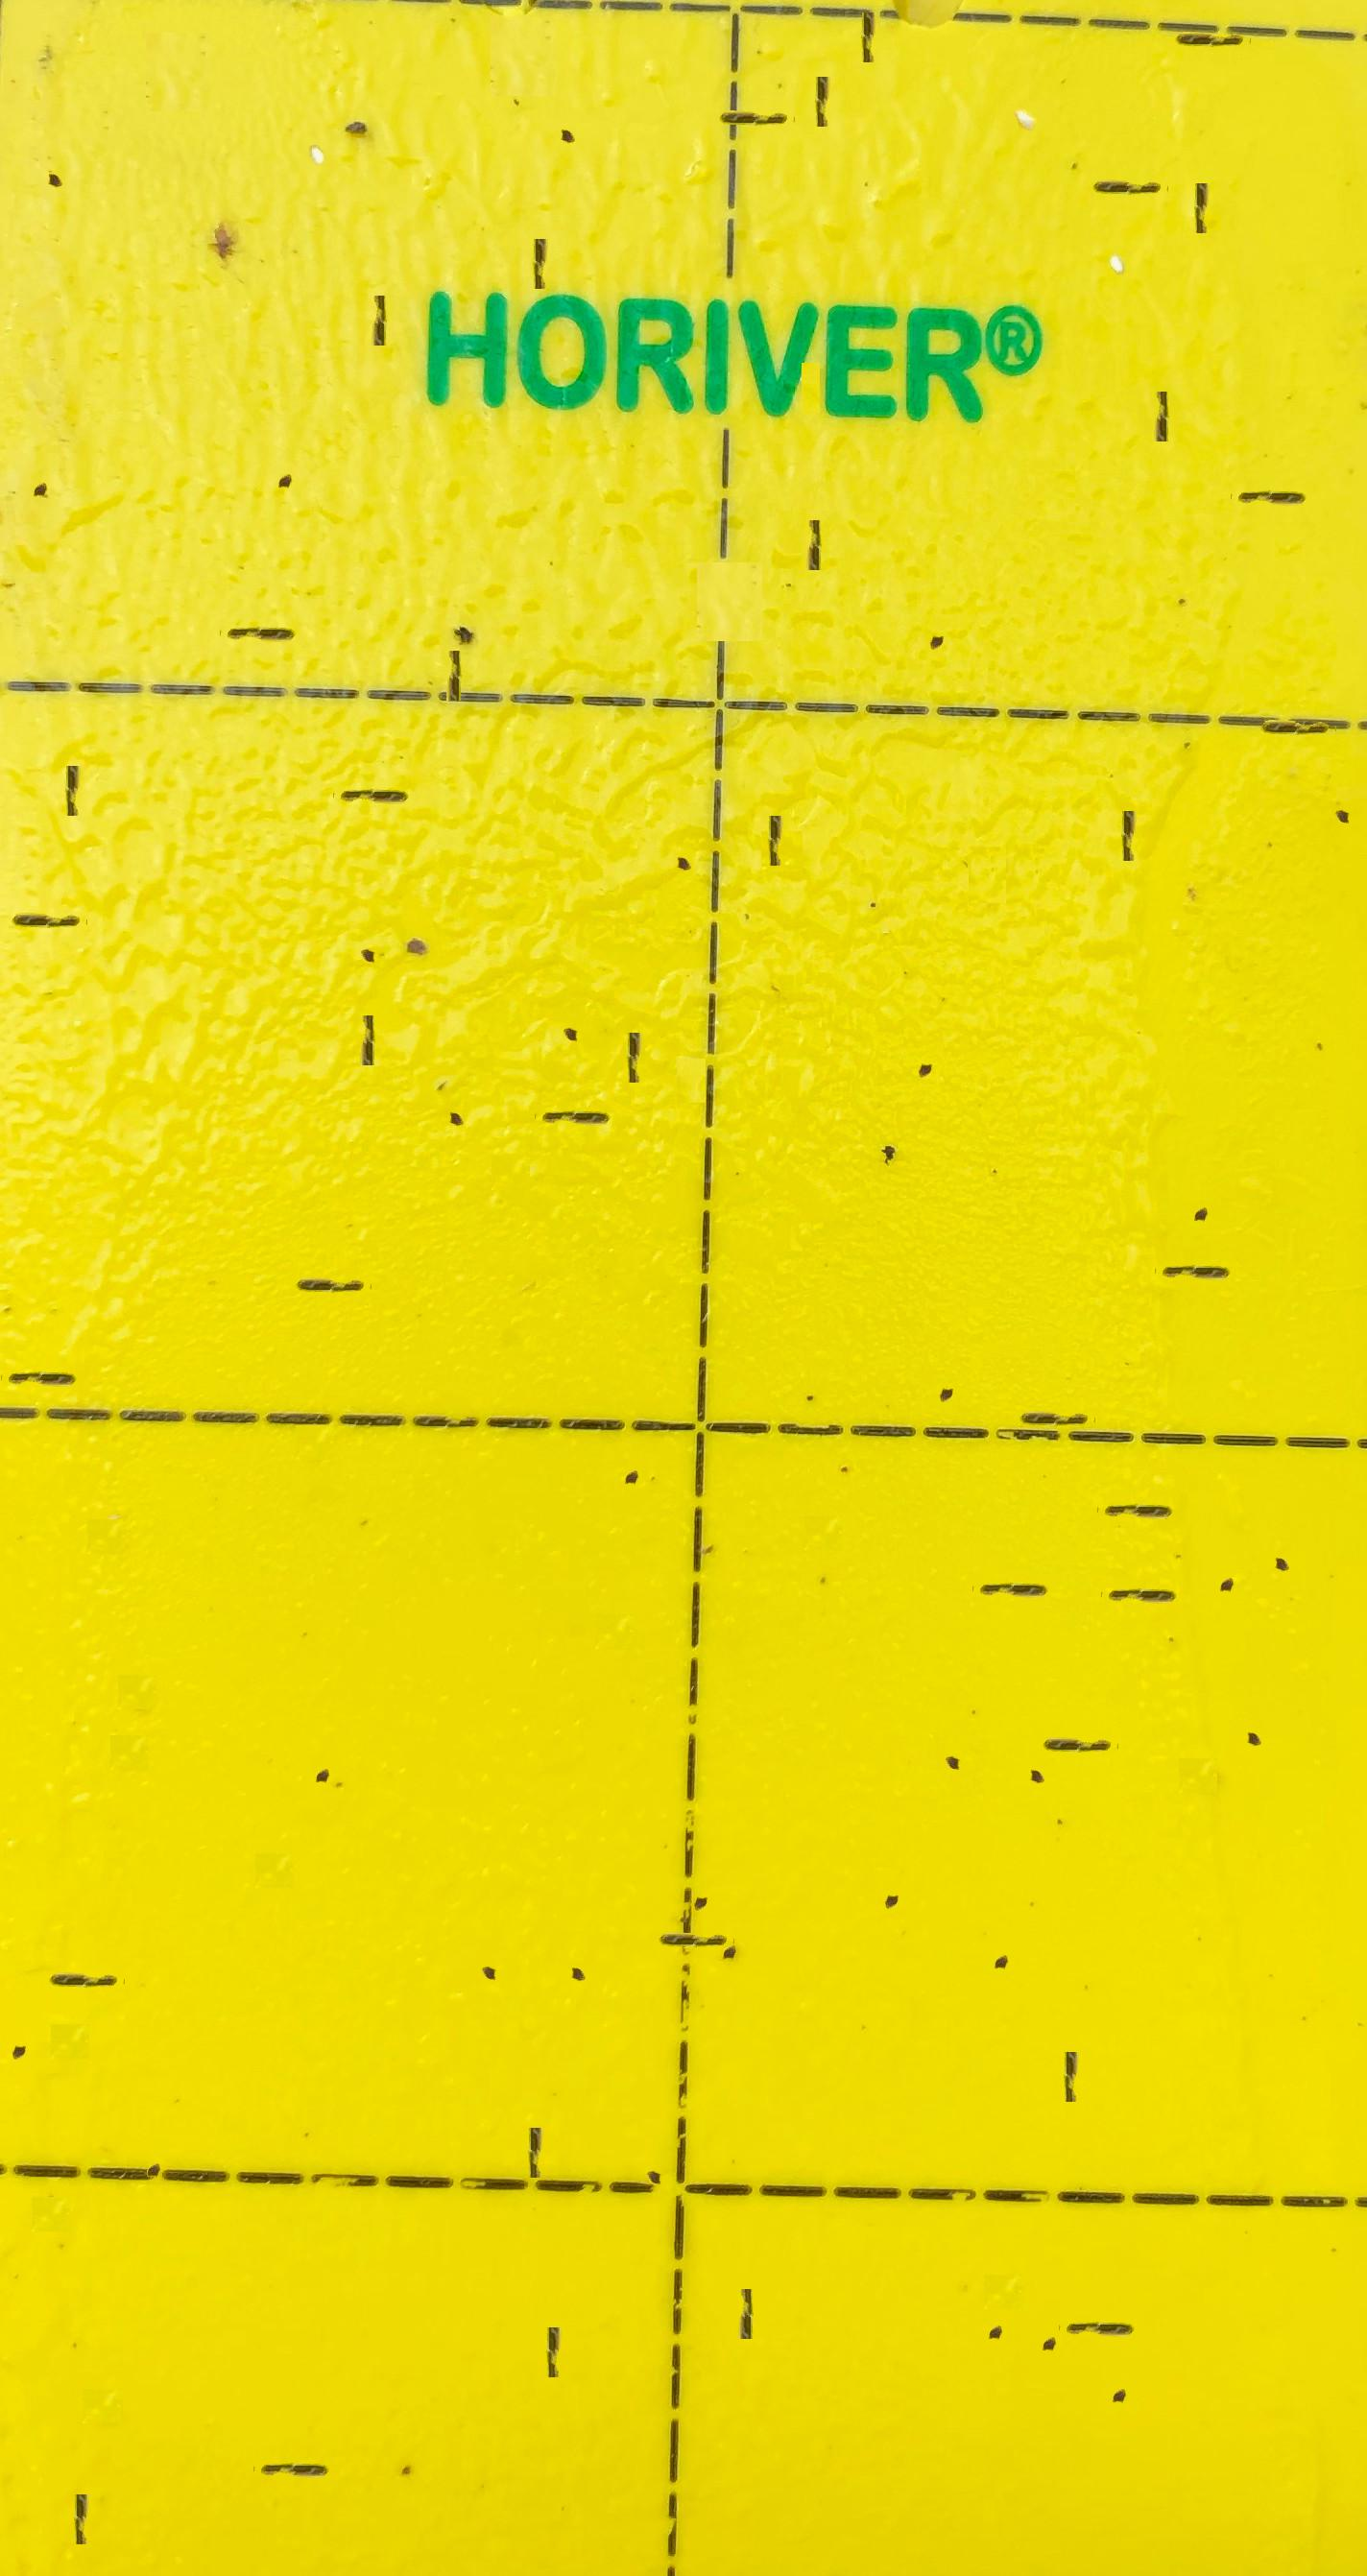white_fly: (1096, 191, 1139, 239), (295, 85, 337, 133), (1006, 56, 1047, 99)
